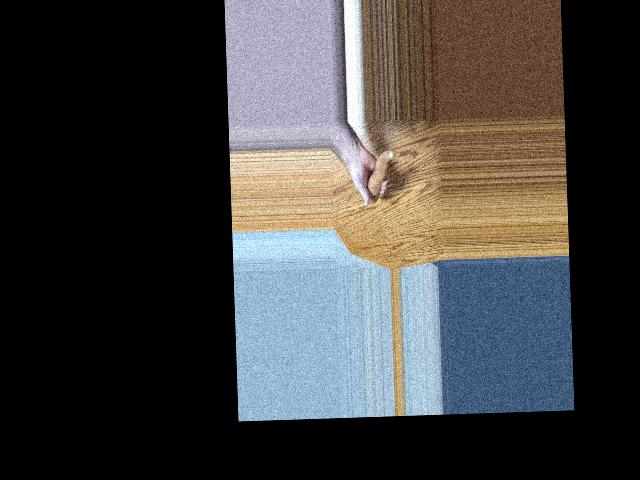sweet_potato: (363, 147, 394, 203)
